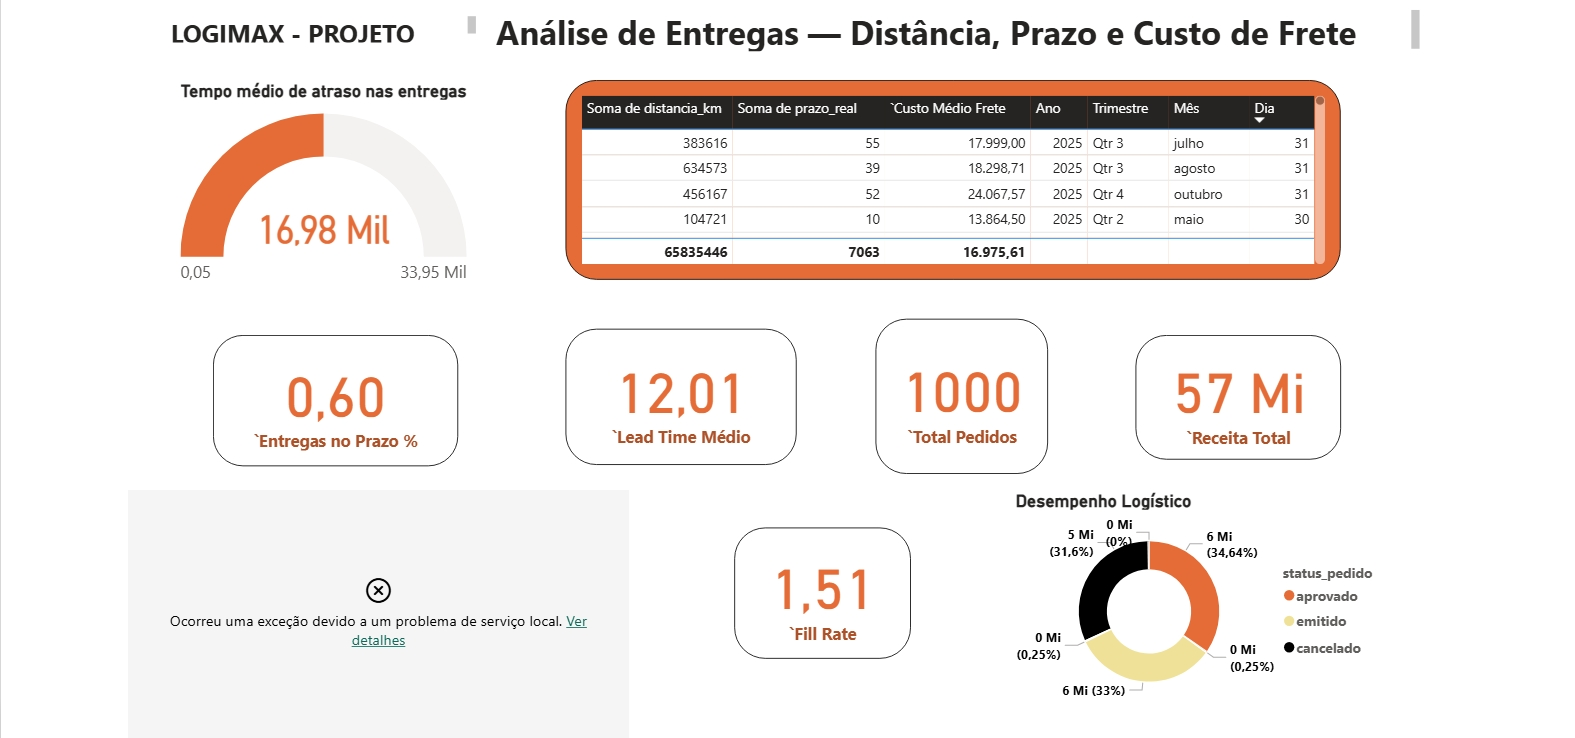

This screenshot's page, from the dashboard's own definition file:
{"tool":"powerbi","page":{"name":"Página 1","canvas":[1280,720],"ordinal":0},"visuals":[{"type":"donutChart","title":"Desempenho Logístico","fields":{"Category":["ERP_Pedidos.status_pedido"],"Y":["Sum(TMS_Transporte.custo_transporte)","WMS_Estoque.`Estoque Total","WMS_Estoque.`Rupturas","WMS_Estoque.`Acuracidade Estoque %"]},"box":[854.8,474.5,377.9,216.4],"z":0},{"type":"card","fields":{"Values":["TMS_Transporte.`Entregas no Prazo %"]},"box":[81.9,324.1,237.2,127.2],"z":1000},{"type":"card","fields":{"Values":["ERP_Pedidos.`Lead Time Médio"]},"box":[424.3,319.2,223.8,132.1],"z":2000},{"type":"card","fields":{"Values":["TMS_Transporte.`Fill Rate"]},"box":[587,511.1,171.2,127.2],"z":3000},{"type":"card","fields":{"Values":["ERP_Pedidos.`Total Pedidos"]},"box":[723.9,309.4,167.5,150.4],"z":4000},{"type":"card","fields":{"Values":["ERP_Pedidos.`Receita Total"]},"box":[975.8,324.1,199.3,121.1],"z":5000},{"type":"pieChart","title":"Confiabilidade e Integridade dos Dados Operacionais","fields":{"Y":["WMS_Estoque.Produtos sem WMS","WMS_Estoque.`Divergencias Qtd","ERP_Pedidos.`Total Inconsistencias"]},"box":[0,474.5,485.5,245.8],"z":6000},{"type":"tableEx","fields":{"Values":["Sum(TMS_Transporte.distancia_km)","Sum(TMS_Transporte.prazo_real)","WMS_Estoque.`Custo Médio Frete","TMS_Transporte.data_entrega.Variation.Hierarquia de datas.Ano","TMS_Transporte.data_entrega.Variation.Hierarquia de datas.Trimestre","TMS_Transporte.data_entrega.Variation.Hierarquia de datas.Mês","TMS_Transporte.data_entrega.Variation.Hierarquia de datas.Dia"]},"box":[424.3,77,750.8,193.2],"z":7000},{"type":"textbox","box":[36.7,11,305.7,35.5],"z":8000},{"type":"textbox","box":[342.4,4.9,913.5,50.1],"z":9000},{"type":"gauge","title":"Tempo médio de atraso nas entregas","fields":{"Y":["WMS_Estoque.`Custo Médio Frete"],"MinValue":["WMS_Estoque.Atraso Médio"]},"box":[46.5,77,287.4,216.4],"z":10000}]}

Visuals, with their boxes on the page's 1280x720 design canvas (x1, y1, x2, y2). These are canvas units, not pixel positions in the 1575x738 screenshot, which may show the page scaled, cropped or inside an application window:
"Desempenho Logístico" donutChart: Rect(855, 474, 1233, 691)
card - TMS_Transporte.`Entregas no Prazo %: Rect(82, 324, 319, 451)
card - ERP_Pedidos.`Lead Time Médio: Rect(424, 319, 648, 451)
card - TMS_Transporte.`Fill Rate: Rect(587, 511, 758, 638)
card - ERP_Pedidos.`Total Pedidos: Rect(724, 309, 891, 460)
card - ERP_Pedidos.`Receita Total: Rect(976, 324, 1175, 445)
"Confiabilidade e Integridade dos Dados Operacionais" pieChart: Rect(0, 474, 486, 720)
tableEx - Sum(TMS_Transporte.distancia_km) x Sum(TMS_Transporte.prazo_real): Rect(424, 77, 1175, 270)
textbox: Rect(37, 11, 342, 46)
textbox: Rect(342, 5, 1256, 55)
"Tempo médio de atraso nas entregas" gauge: Rect(46, 77, 334, 293)
